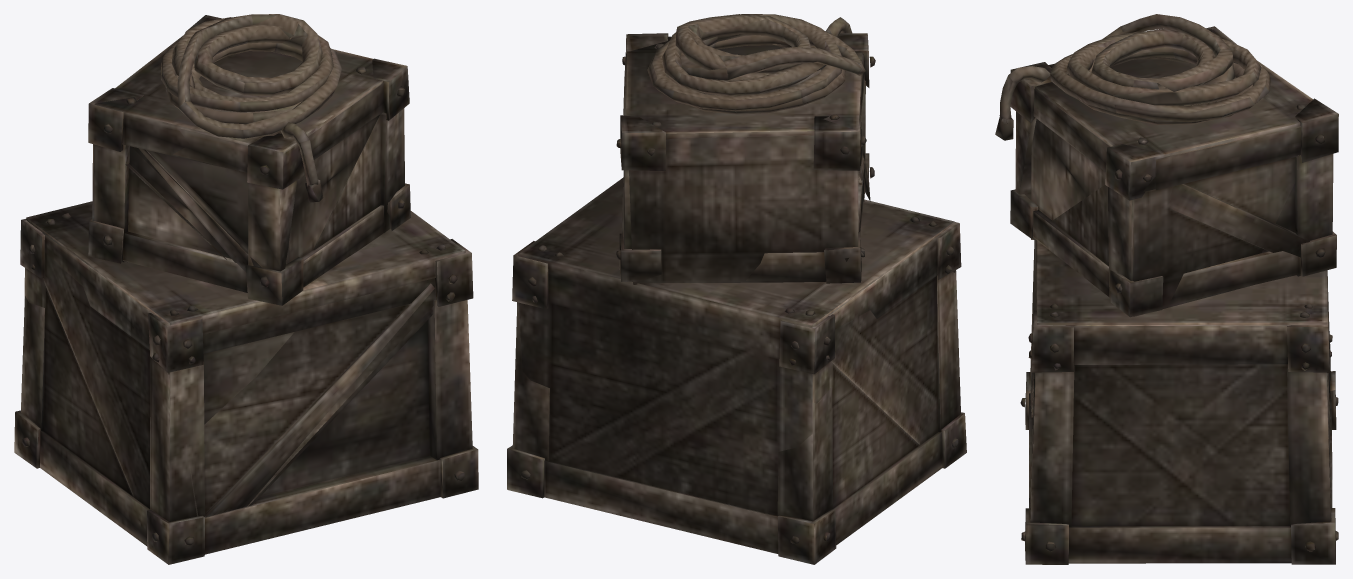
The model's file is d_crates_stacked.glb.
The picture shows the model from 3 angles, left to right: view 1: azimuth 30°, elevation 25°; view 2: azimuth 150°, elevation 25°; view 3: azimuth 270°, elevation 25°; orthographic projection.
Parts seen in each view (by area): view 1: d_crates_stacked; view 2: d_crates_stacked; view 3: d_crates_stacked.
Boxes of the visible parts, left/top/right/bottom form: d_crates_stacked: left=14, top=14, right=478, bottom=564; d_crates_stacked: left=507, top=14, right=966, bottom=564; d_crates_stacked: left=995, top=14, right=1338, bottom=564.
Bounding box in the file's own units: 1.61 × 2.14 × 1.5.
Materials: 1 (1 with a texture image).
